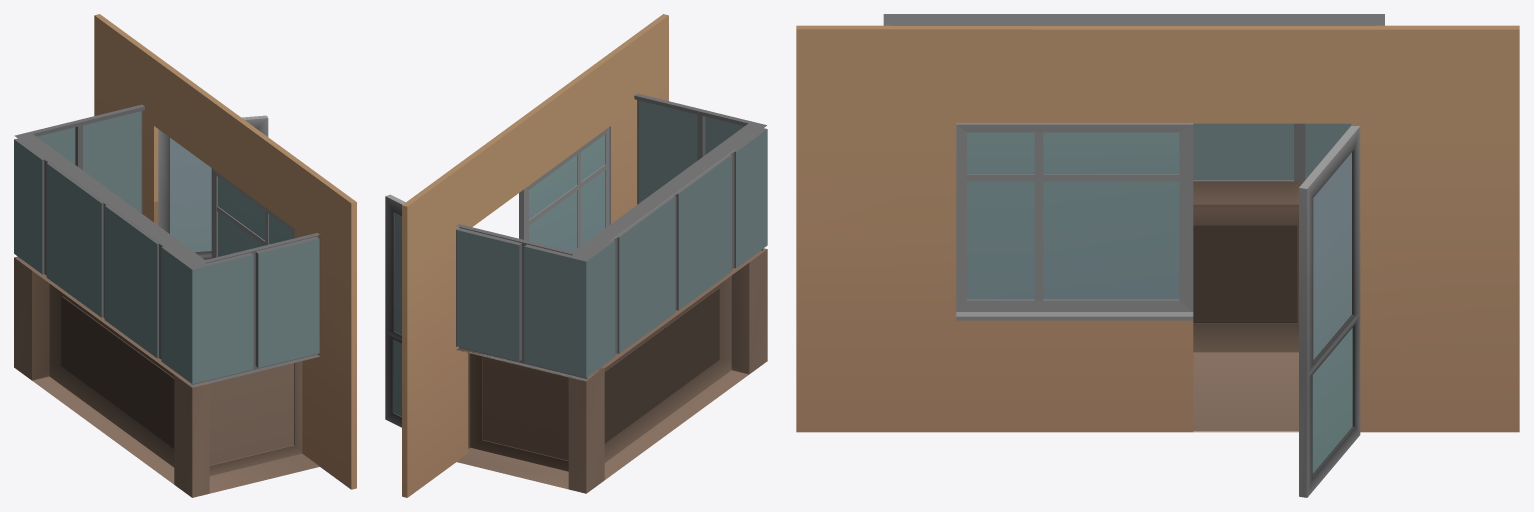
Rendered from Old balcon.fbx.
The picture shows the model from 3 angles, left to right: view 1: azimuth 30°, elevation 25°; view 2: azimuth 150°, elevation 25°; view 3: azimuth 270°, elevation 25°; orthographic projection. The views are drawn at different scales.
Visible parts, largest first — view 1: Cube.015; view 2: Cube.015; view 3: Cube.015.
Boxes of the visible parts, <box> form: Cube.015: <box>14,14,356,497</box>; Cube.015: <box>385,14,767,497</box>; Cube.015: <box>796,14,1519,497</box>.
Bounding box in the file's own units: 6124 × 7486 × 12102.
